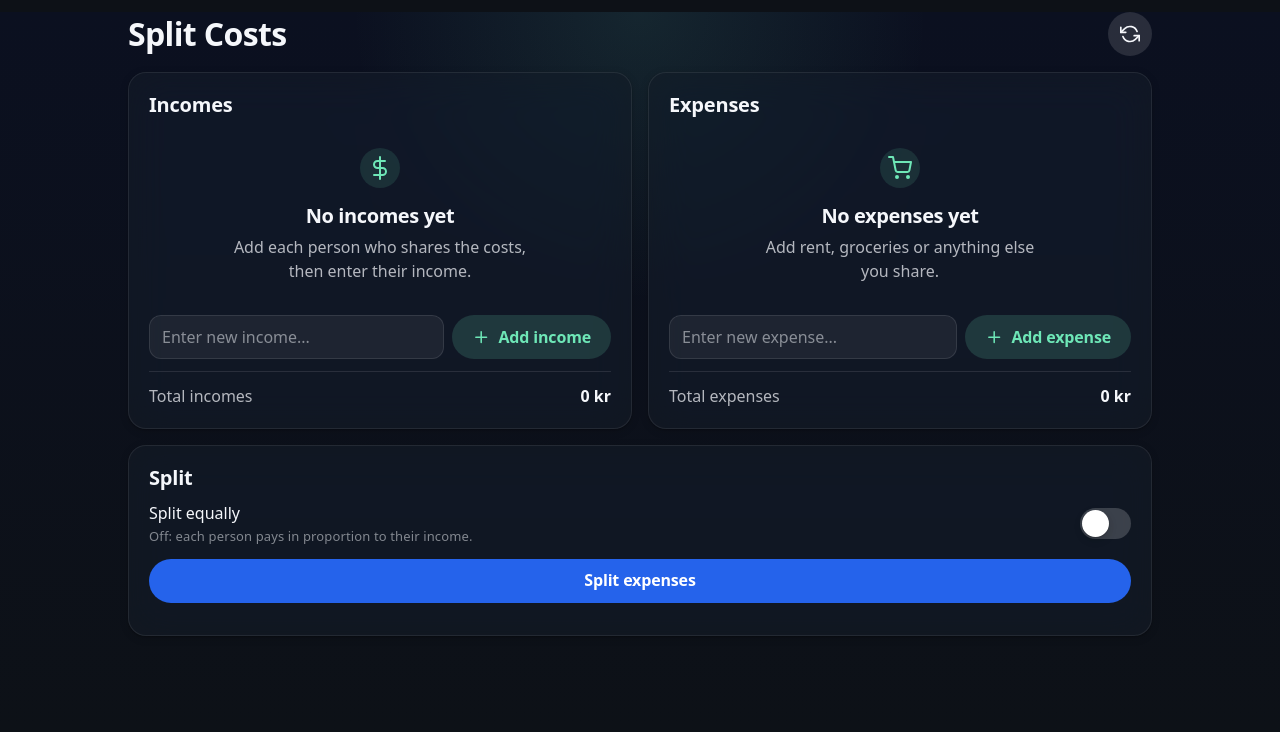
Test case: CostCalculator › anonymous, localStorage only › adds an entry with the Enter key
Type "Netflix" into the field labelled "new expense" at [813, 337], box [682,317,944,357]
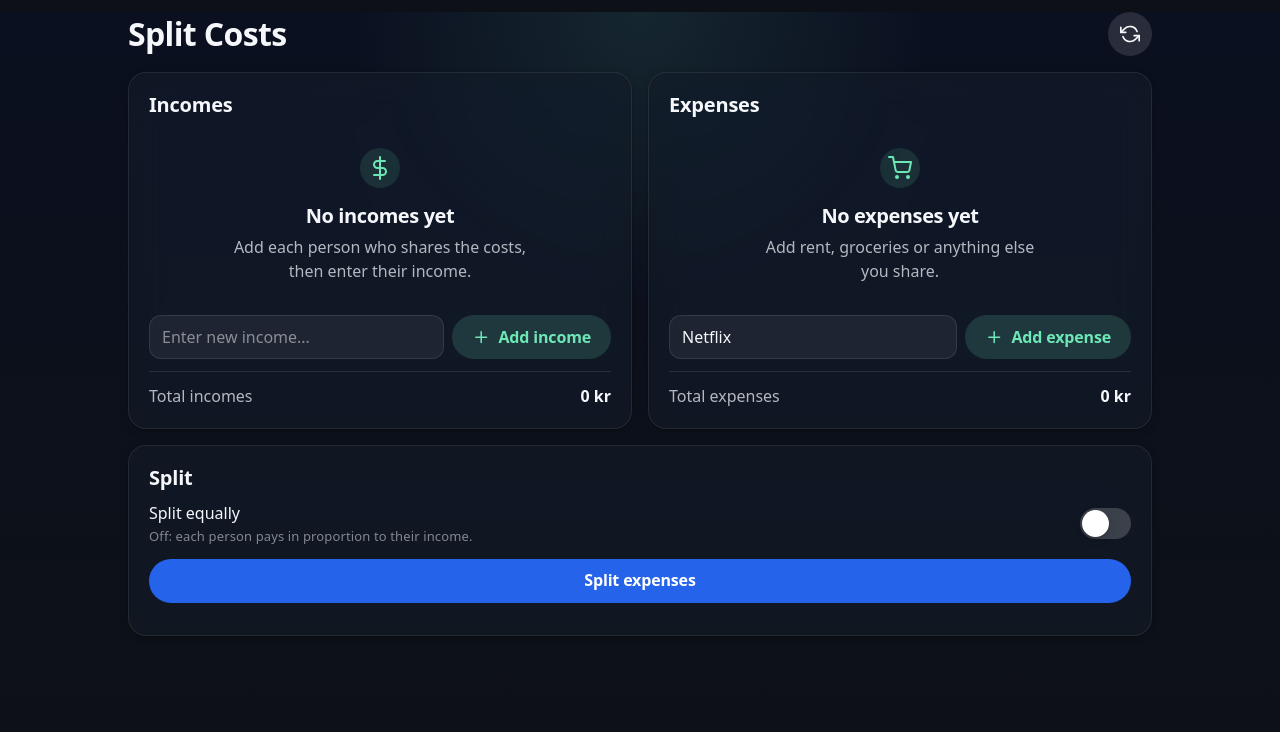
Submit the form named "New expense", box [669,315,1131,359]
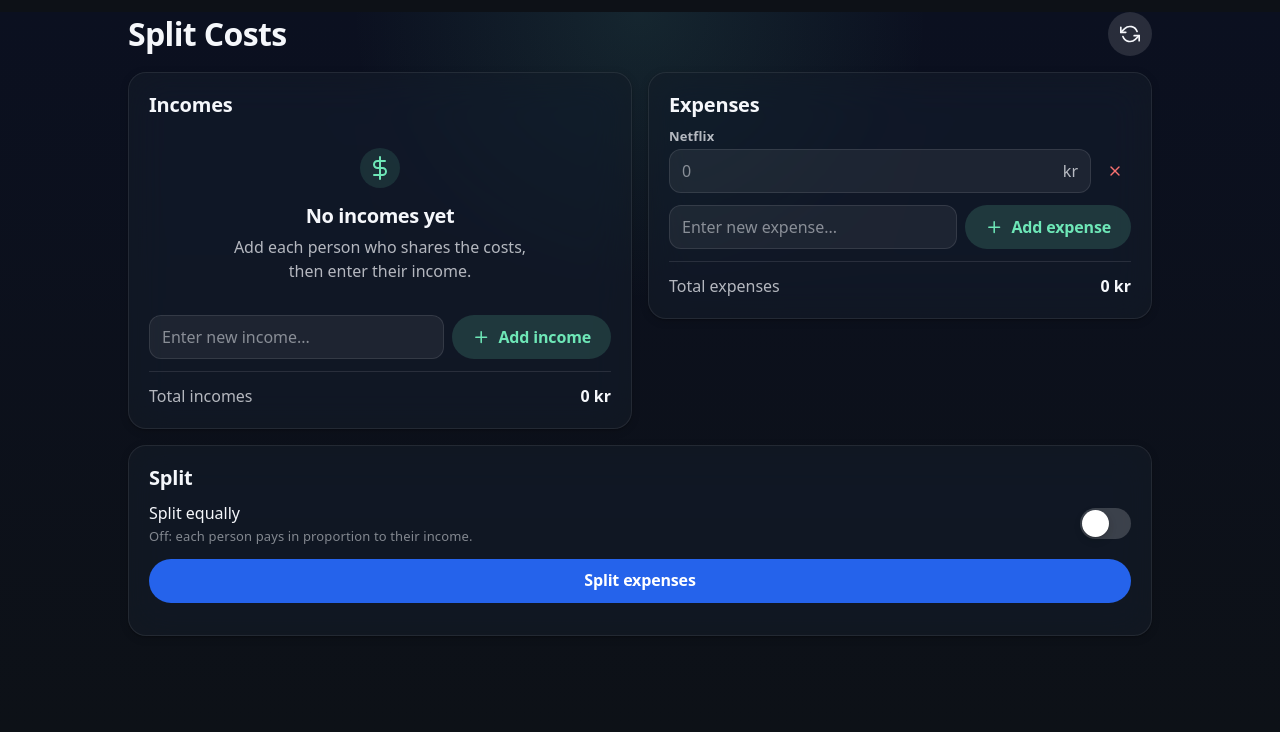
expect the number field named "Amount for Netflix" is shown: met, box [682,151,1055,191]
